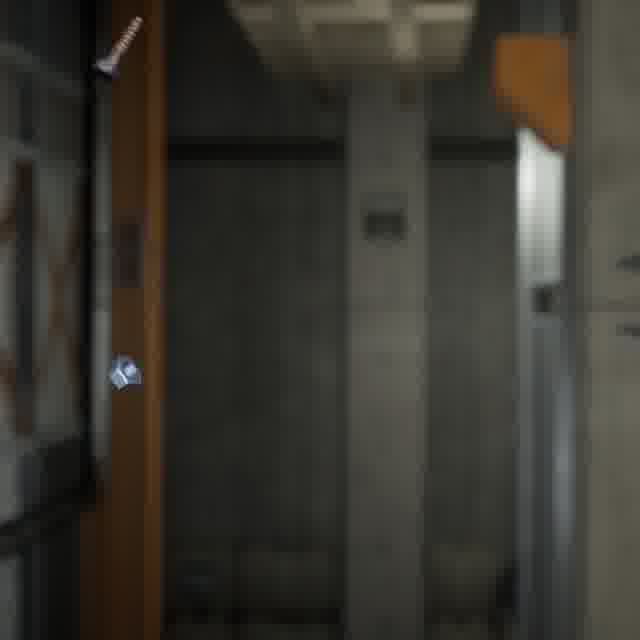bolt: (88, 12, 148, 86)
nut: (104, 352, 145, 394)
